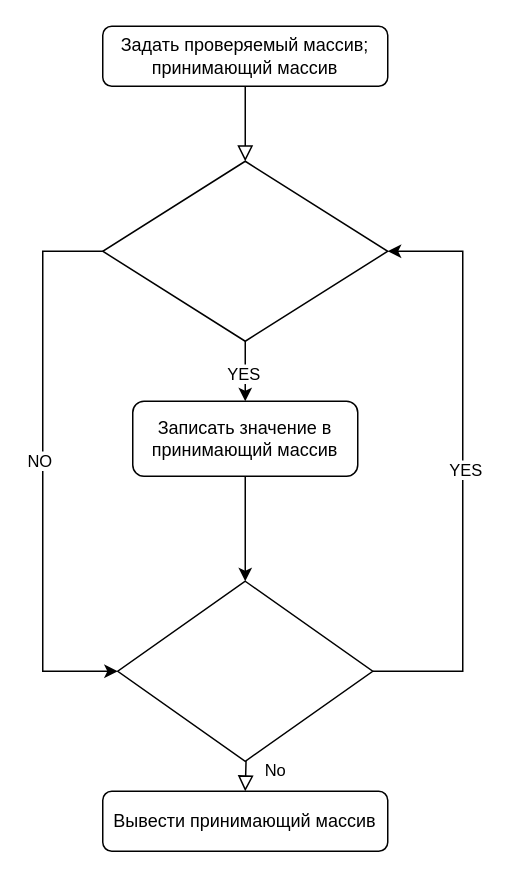
The diagram is 507 pixels wide and 878 high, and some of its shapes have lost their labels. Here are the shapes that lost their labels. From the top down, the centre of each, then its label:
the point at 244,250: Длина элемента массива >=3?
the point at 244,670: Есть еще элементы в массиве?
